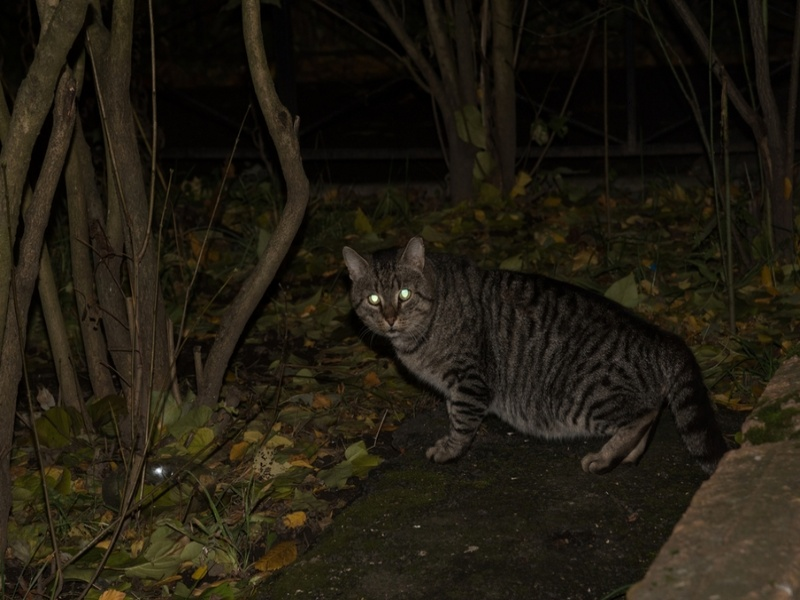cat: (336, 234, 730, 477)
